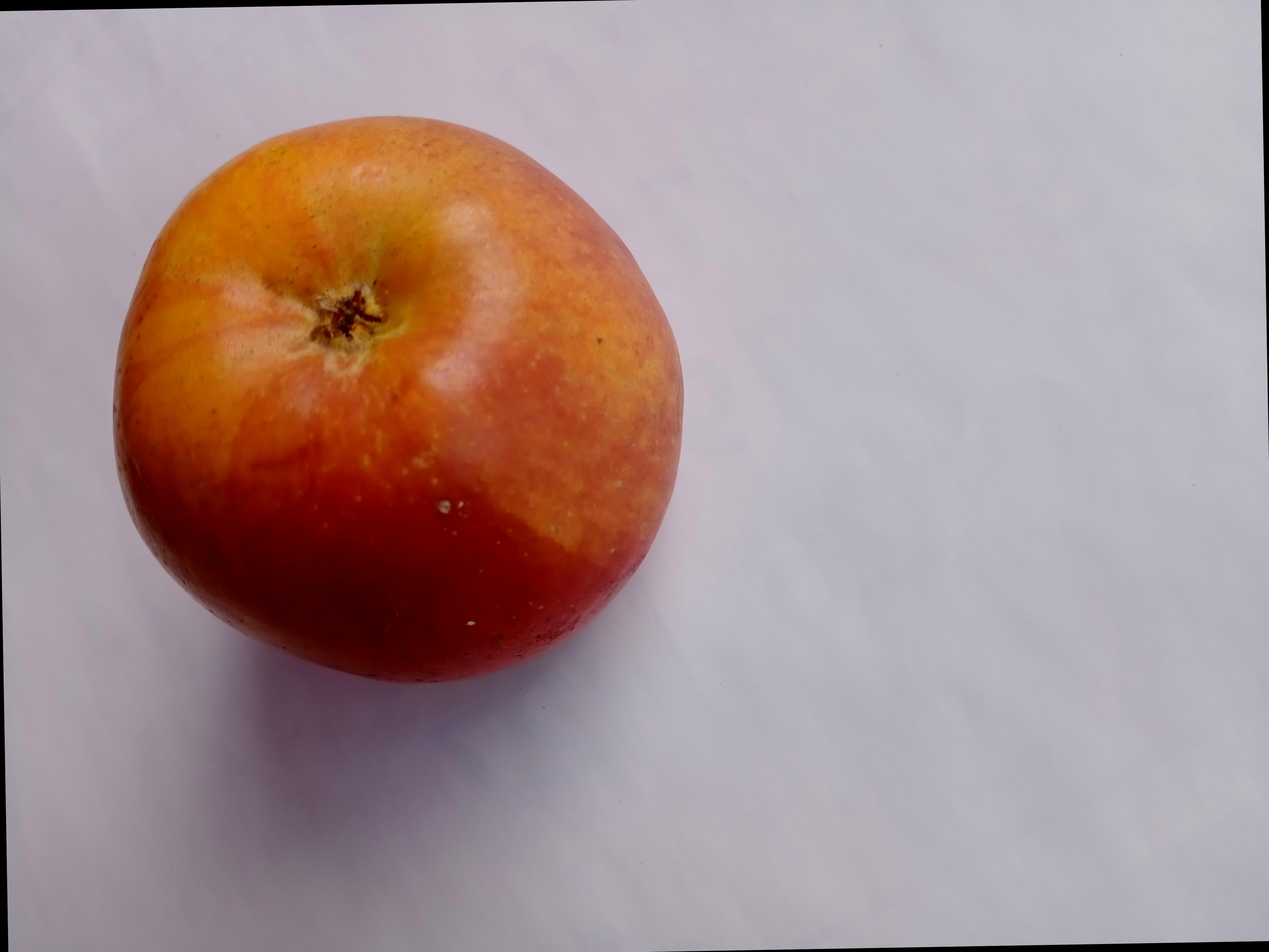Apple Ripe: (60, 101, 721, 742)
